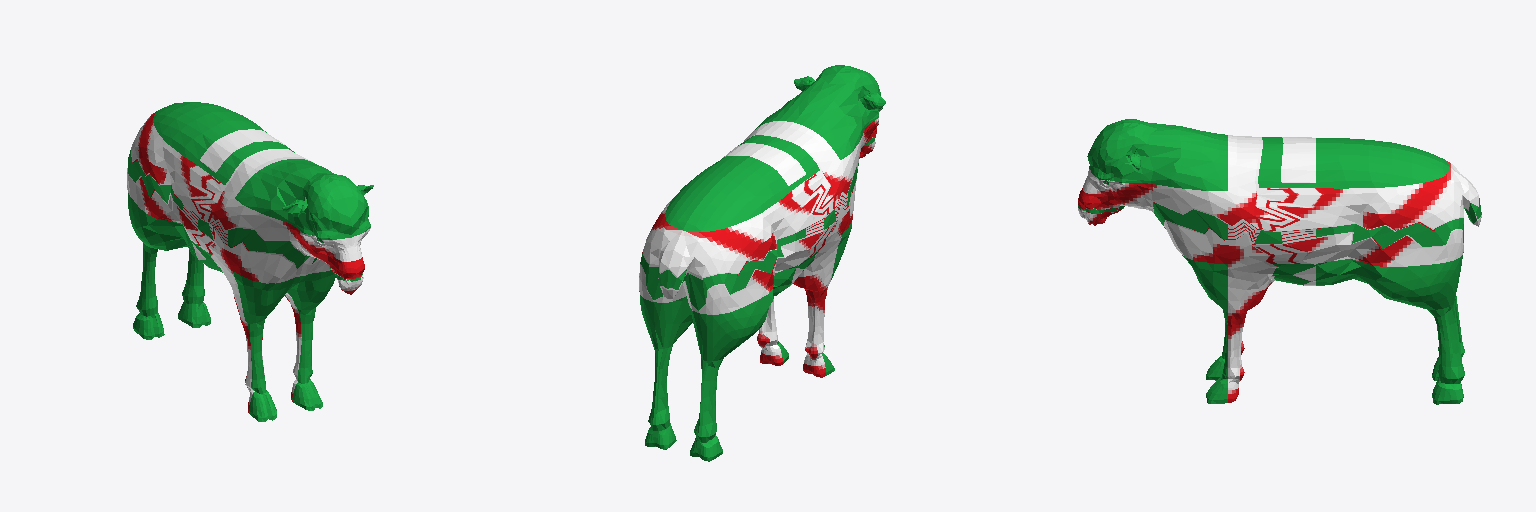
3 renders of one model, left to right at view 1: azimuth 30°, elevation 25°; view 2: azimuth 150°, elevation 25°; view 3: azimuth 270°, elevation 25°, orthographic.
Visible parts, largest first — view 1: shp_body; view 2: shp_body; view 3: shp_body.
Part boxes in pixels (x1,y1,x2,y2): shp_body: (127, 102, 373, 421); shp_body: (639, 65, 885, 461); shp_body: (1078, 119, 1481, 404).
Bounding box in the file's own units: 0.4098 × 0.9124 × 1.26.
Materials: 2 (2 with a texture image).